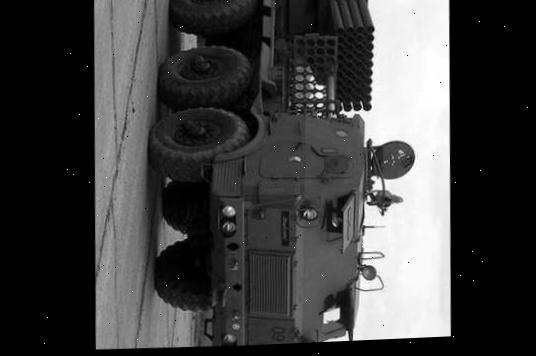rszo: (129, 0, 412, 350)
